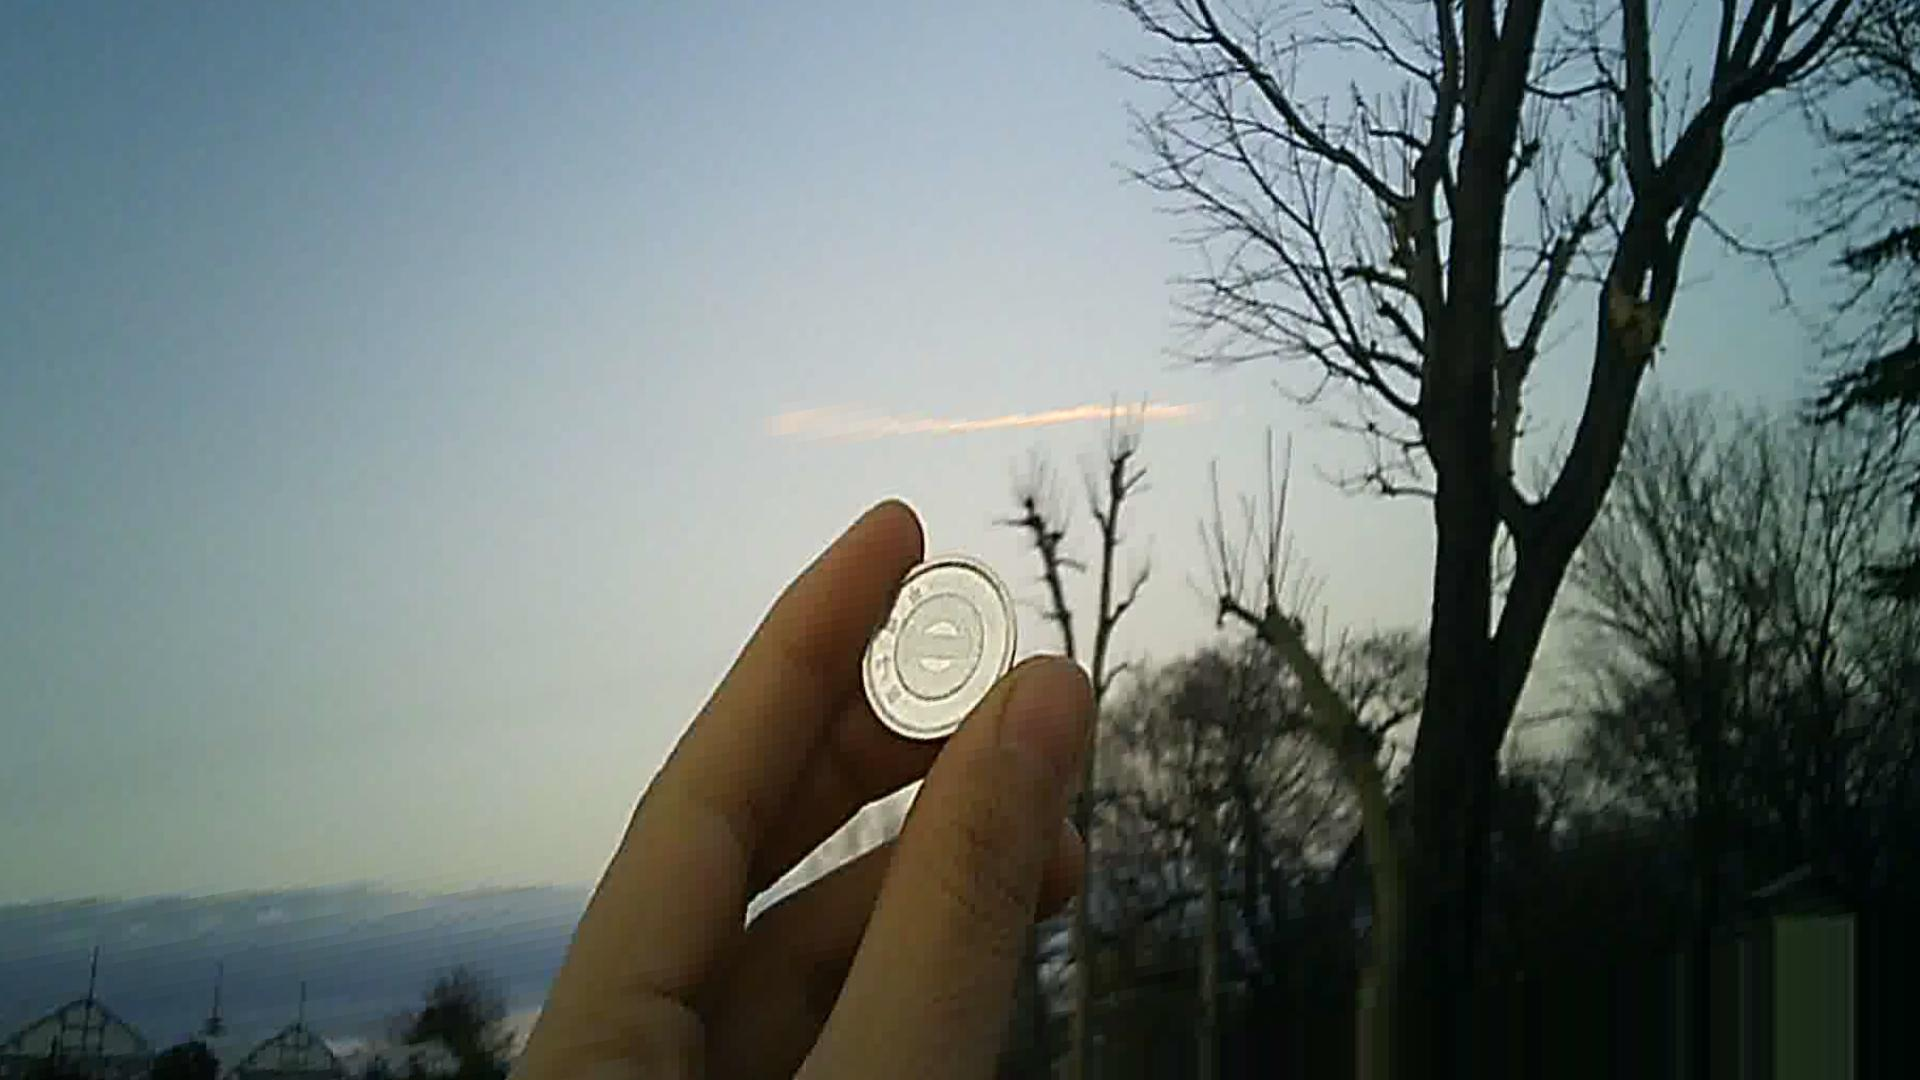1 Yen: (856, 556, 1015, 752)
